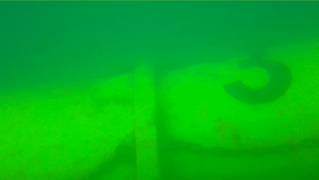3: (211, 50, 293, 105)
pipe: (1, 37, 318, 180)
